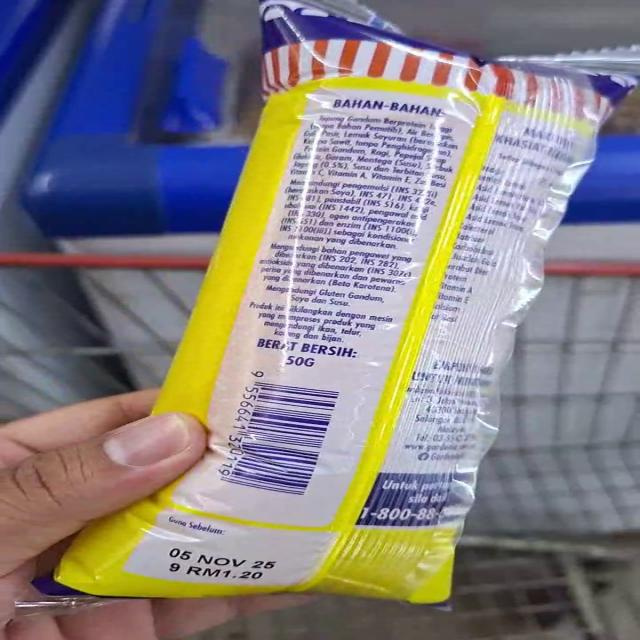Roti: (79, 242, 494, 624), (223, 0, 640, 322)
